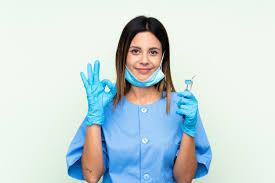Wore Mask Incorrectly: (117, 25, 177, 95)
